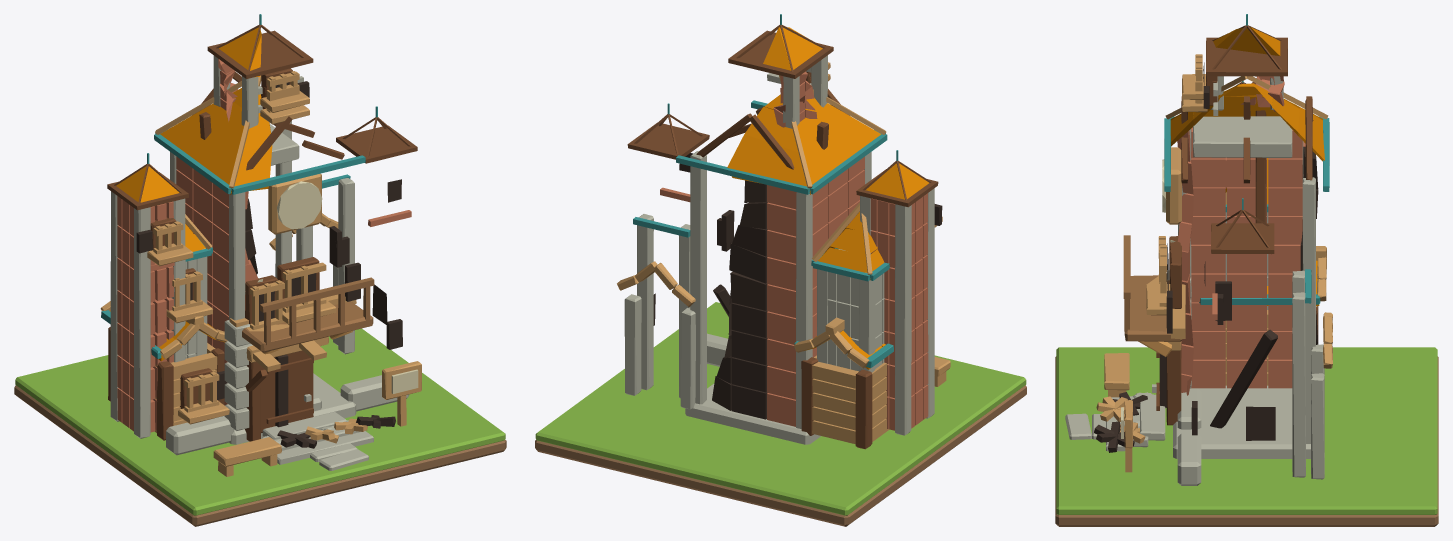
Rendered from town_hall_l10_damaged_LOD1.glb.
3 views of the same model, side by side, from view 1: azimuth 30°, elevation 25°; view 2: azimuth 150°, elevation 25°; view 3: azimuth 270°, elevation 25° (orthographic). The views are drawn at different scales.
Parts seen in each view (by area): view 1: town_hall_l10_damaged_foundation.001, town_hall_l10_damaged_grass_tile.001, town_hall_l10_damaged_earth_tile.001, town_hall_l10_damaged_path_stone.005; view 2: town_hall_l10_damaged_foundation.001, town_hall_l10_damaged_grass_tile.001, town_hall_l10_damaged_earth_tile.001; view 3: town_hall_l10_damaged_foundation.001, town_hall_l10_damaged_grass_tile.001, town_hall_l10_damaged_earth_tile.001, town_hall_l10_damaged_path_stone.005.
Boxes of the visible parts, x1,y1,x2,y2 form: town_hall_l10_damaged_foundation.001: (100,14,421,476); town_hall_l10_damaged_grass_tile.001: (15,328,505,515); town_hall_l10_damaged_earth_tile.001: (14,385,506,526); town_hall_l10_damaged_path_stone.005: (319,449,368,470); town_hall_l10_damaged_foundation.001: (617,14,950,449); town_hall_l10_damaged_grass_tile.001: (535,302,1026,515); town_hall_l10_damaged_earth_tile.001: (535,385,1026,526); town_hall_l10_damaged_foundation.001: (1094,14,1332,485); town_hall_l10_damaged_grass_tile.001: (1056,347,1437,514); town_hall_l10_damaged_earth_tile.001: (1055,356,1438,526); town_hall_l10_damaged_path_stone.005: (1065,413,1091,439).
Size of the model in its own units: 3.6 by 4.49 by 3.6.
